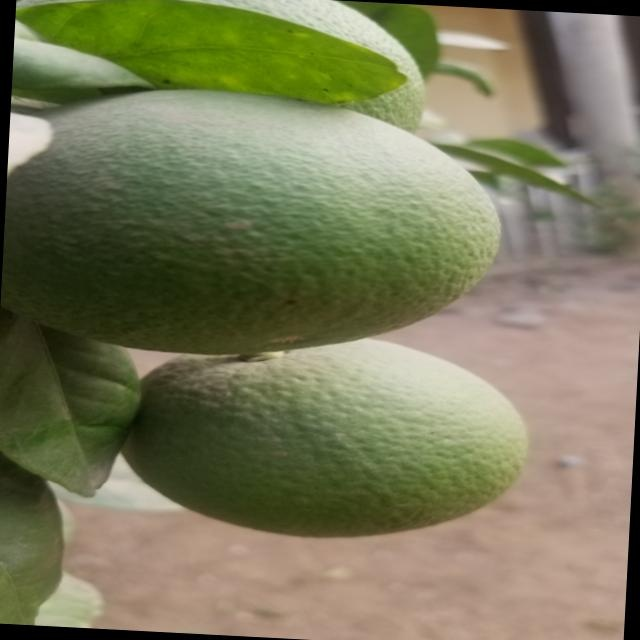agrume: (0, 83, 498, 361), (133, 330, 522, 547), (11, 0, 421, 115)
